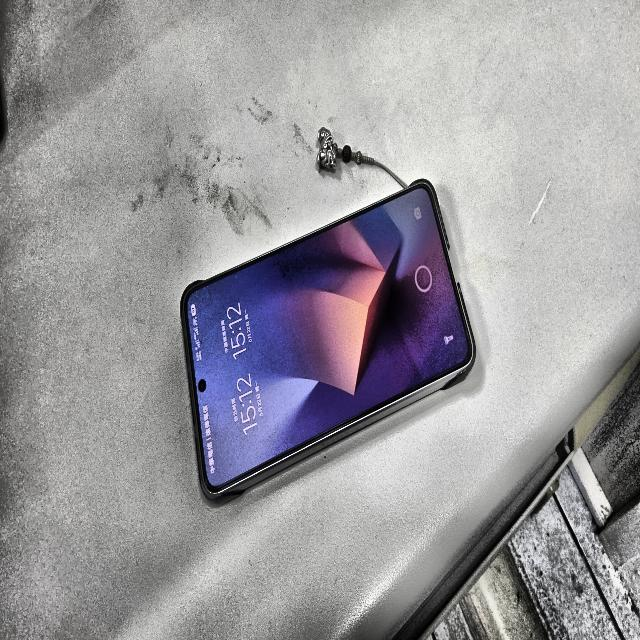PHONE: (181, 180, 475, 499)
